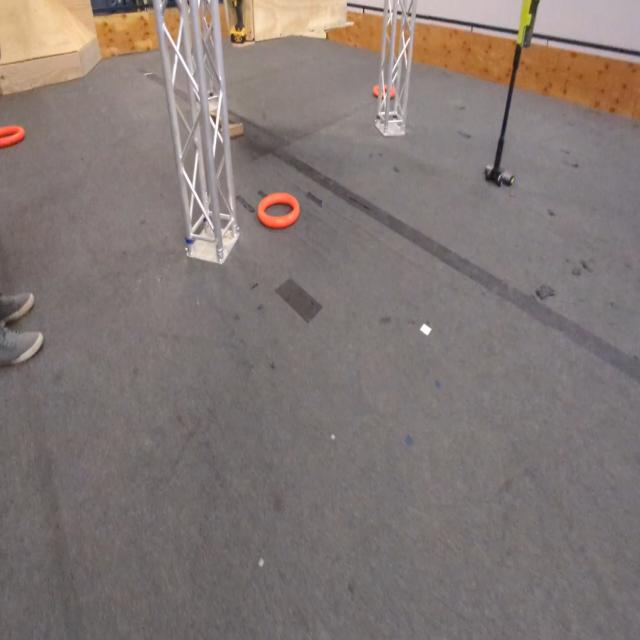note: (258, 192, 302, 230), (0, 124, 24, 150), (371, 79, 398, 99)
